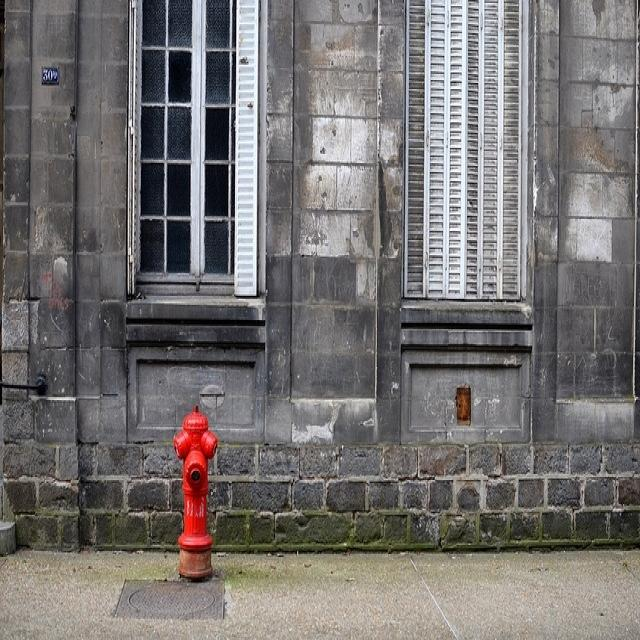fire_hydrant: (156, 388, 232, 600)
